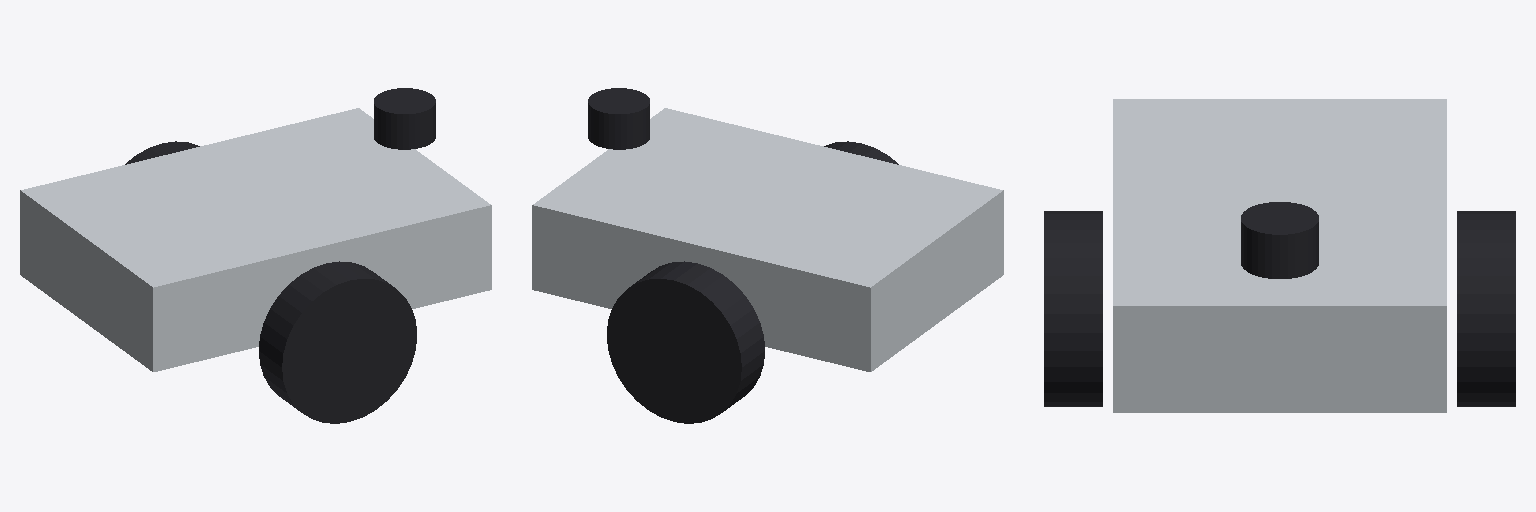
URDF robot description (rover):
<?xml version="1.0"?>
<robot name="rover">
  <material name="body">
    <color rgba="0.82 0.84 0.86 1"/>
  </material>
  <material name="rubber">
    <color rgba="0.2 0.2 0.22 1"/>
  </material>

  <link name="base_footprint"/>

  <link name="base_link">
    <visual>
      <origin xyz="0 0 0.06" rpy="0 0 0"/>
      <geometry><box size="0.50 0.34 0.12"/></geometry>
      <material name="body"/>
    </visual>
    <visual name="wheel_left">
      <origin xyz="0 0.21 0" rpy="1.5708 0 0"/>
      <geometry><cylinder radius="0.10" length="0.06"/></geometry>
      <material name="rubber"/>
    </visual>
    <visual name="wheel_right">
      <origin xyz="0 -0.21 0" rpy="1.5708 0 0"/>
      <geometry><cylinder radius="0.10" length="0.06"/></geometry>
      <material name="rubber"/>
    </visual>
    <collision>
      <origin xyz="0 0 0.06" rpy="0 0 0"/>
      <geometry><box size="0.50 0.46 0.20"/></geometry>
    </collision>
  </link>

  <link name="laser_link">
    <visual>
      <geometry><cylinder radius="0.04" length="0.05"/></geometry>
      <material name="rubber"/>
    </visual>
  </link>

  <link name="imu_link">
    <visual>
      <geometry><box size="0.04 0.04 0.01"/></geometry>
    </visual>
  </link>

  <joint name="base_joint" type="fixed">
    <parent link="base_footprint"/>
    <child link="base_link"/>
    <origin xyz="0 0 0.10" rpy="0 0 0"/>
  </joint>

  <joint name="laser_joint" type="fixed">
    <parent link="base_link"/>
    <child link="laser_link"/>
    <origin xyz="0.22 0 0.18" rpy="0 0 0"/>
  </joint>

  <joint name="imu_joint" type="fixed">
    <parent link="base_link"/>
    <child link="imu_link"/>
    <origin xyz="0 0 0.05" rpy="0 0 0"/>
  </joint>
</robot>

--- Render facts (derived) ---
Views: 3 orthographic renders of the robot side by side, from view 1: azimuth 30°, elevation 25°; view 2: azimuth 150°, elevation 25°; view 3: azimuth 270°, elevation 25°.
Robot: rover — 4 links, 3 joints (3 fixed); root link base_footprint; default pose: every joint at zero.
Visible links, largest first — view 1: base_link, laser_link; view 2: base_link, laser_link; view 3: base_link, laser_link.
Boxes of the visible links, box(x1,y1,x2,y2) form: base_link: box(20, 108, 491, 423); laser_link: box(374, 88, 435, 149); base_link: box(532, 108, 1003, 423); laser_link: box(588, 88, 649, 149); base_link: box(1044, 99, 1515, 412); laser_link: box(1241, 202, 1318, 278).
Size in the robot's own frame: 0.51 by 0.48 by 0.305 metres.
Geometry: primitives only (box / cylinder / sphere), no mesh files.
